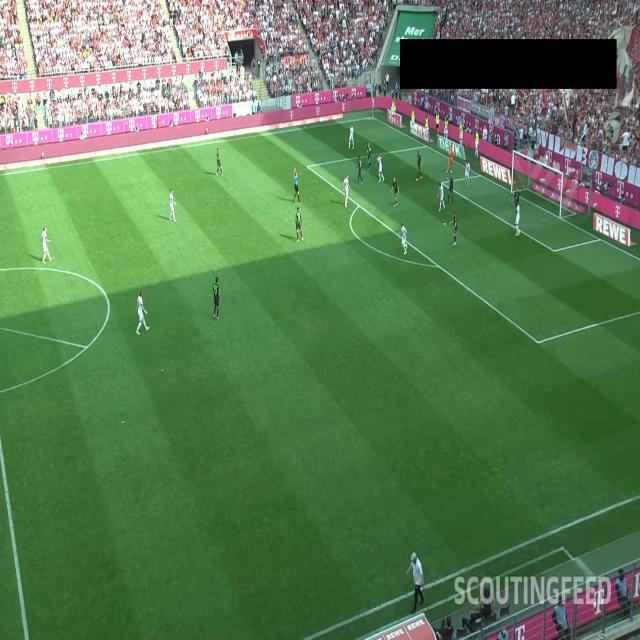ball: (448, 150, 451, 156)
